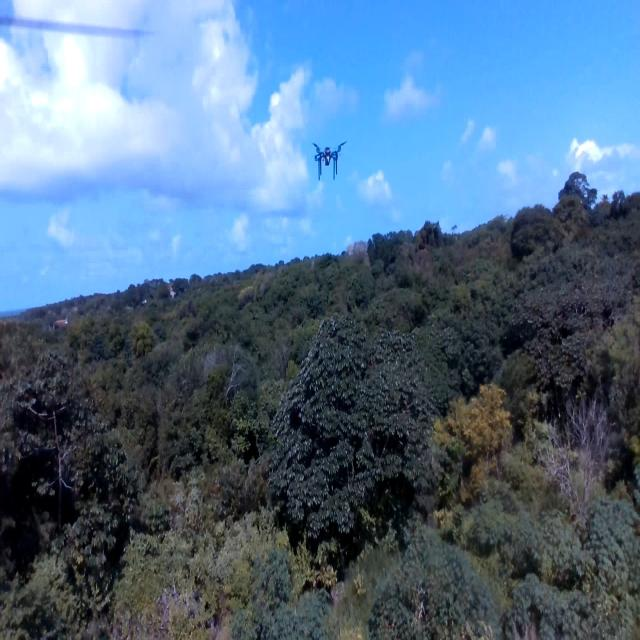-uav-: (306, 134, 352, 185)
